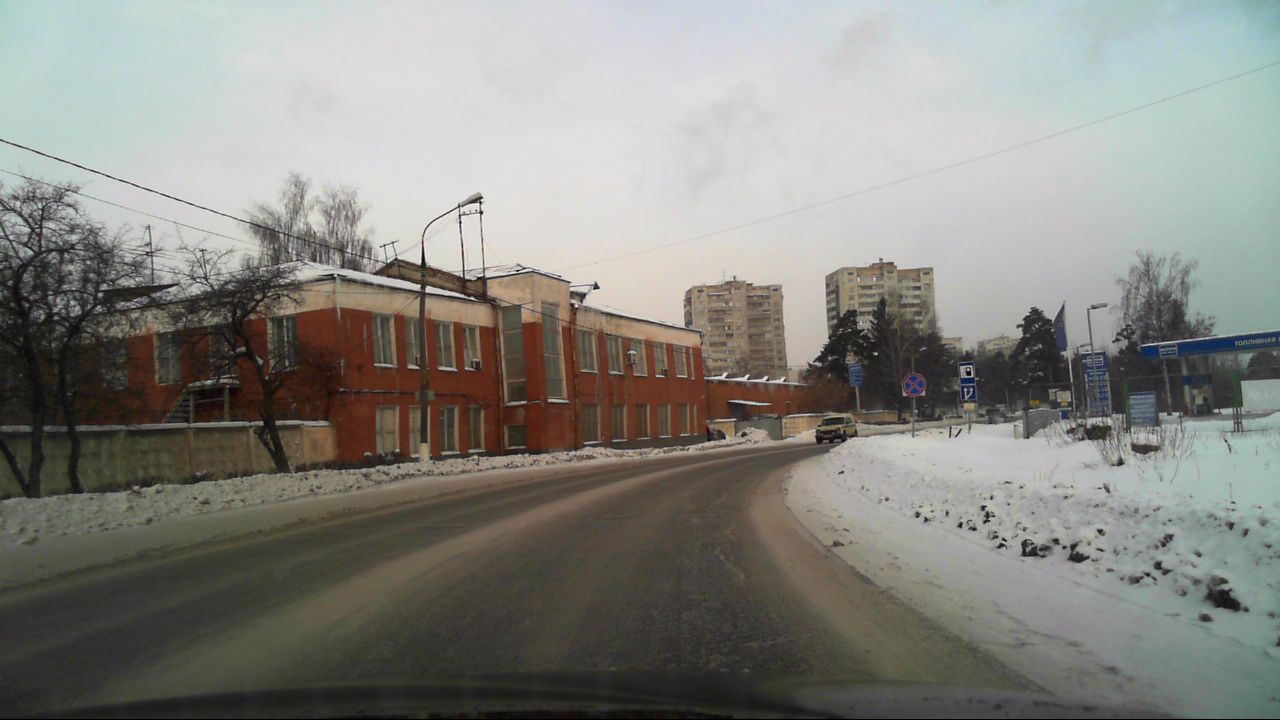No Parking: (902, 373, 926, 398)
